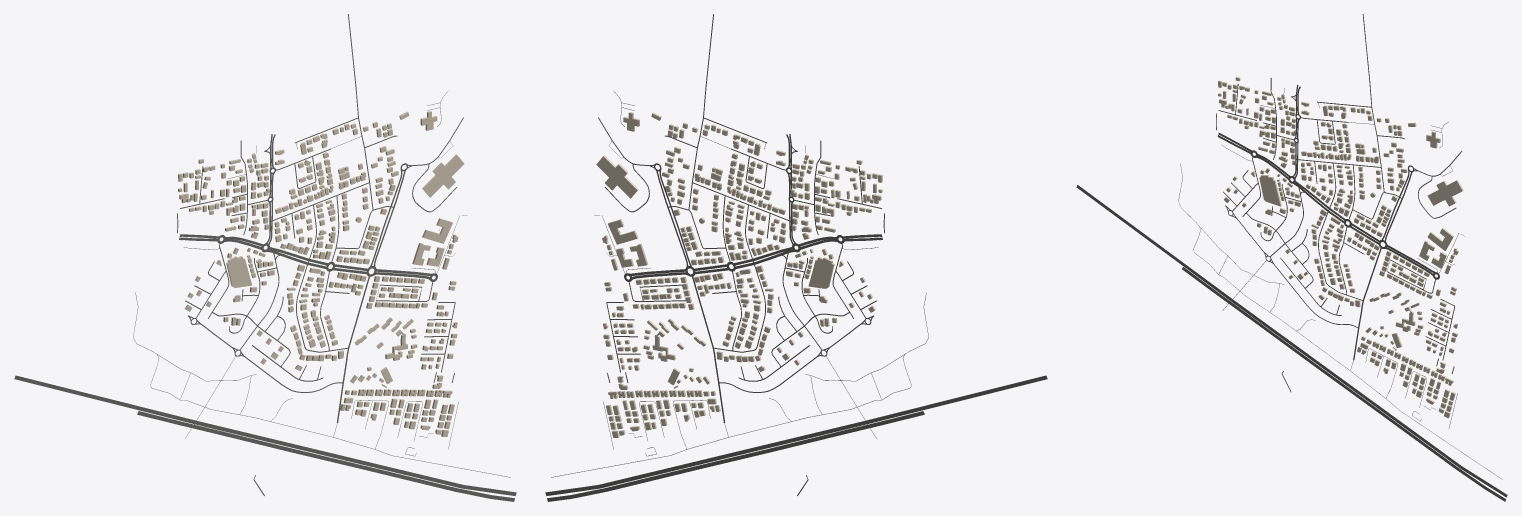
The model's file is historic-palestine-06_24_3477_3180.glb.
The picture shows the model from 3 angles, left to right: view 1: azimuth 30°, elevation 25°; view 2: azimuth 150°, elevation 25°; view 3: azimuth 330°, elevation 25°; orthographic projection. The views are drawn at different scales.
Parts seen in each view (by area): view 1: Road 7, Road 7.001, Building_, Building_.378; view 2: Road 7, Road 7.001, Building_, Building_.378; view 3: Road 7, Road 7.001, Building_.
Boxes of the visible parts, box(x1,y1,x2,y2) form: Road 7: box(14, 375, 516, 495); Road 7.001: box(137, 411, 514, 501); Building_: box(422, 154, 464, 197); Building_.378: box(226, 256, 252, 287); Road 7: box(545, 375, 1047, 495); Road 7.001: box(547, 411, 924, 501); Building_: box(596, 155, 638, 198); Building_.378: box(808, 256, 834, 288); Road 7: box(1076, 185, 1507, 497); Road 7.001: box(1182, 267, 1505, 501); Building_: box(1427, 180, 1463, 206).
Bounding box in the file's own units: 1714 × 1722 × 8.7.
